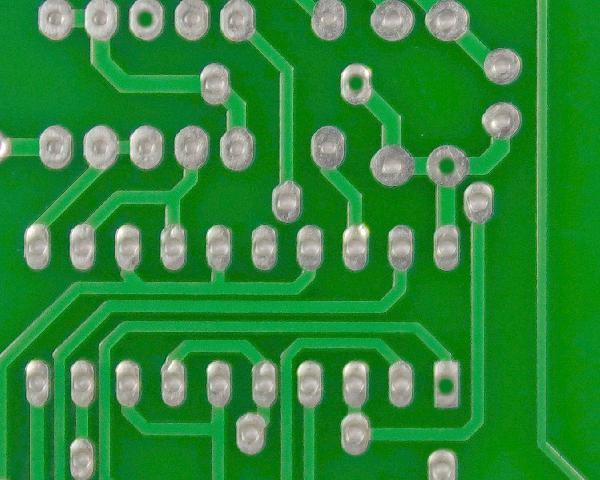missing hole: (426, 352, 471, 412), (335, 57, 380, 112), (424, 142, 472, 188), (126, 1, 166, 45)
